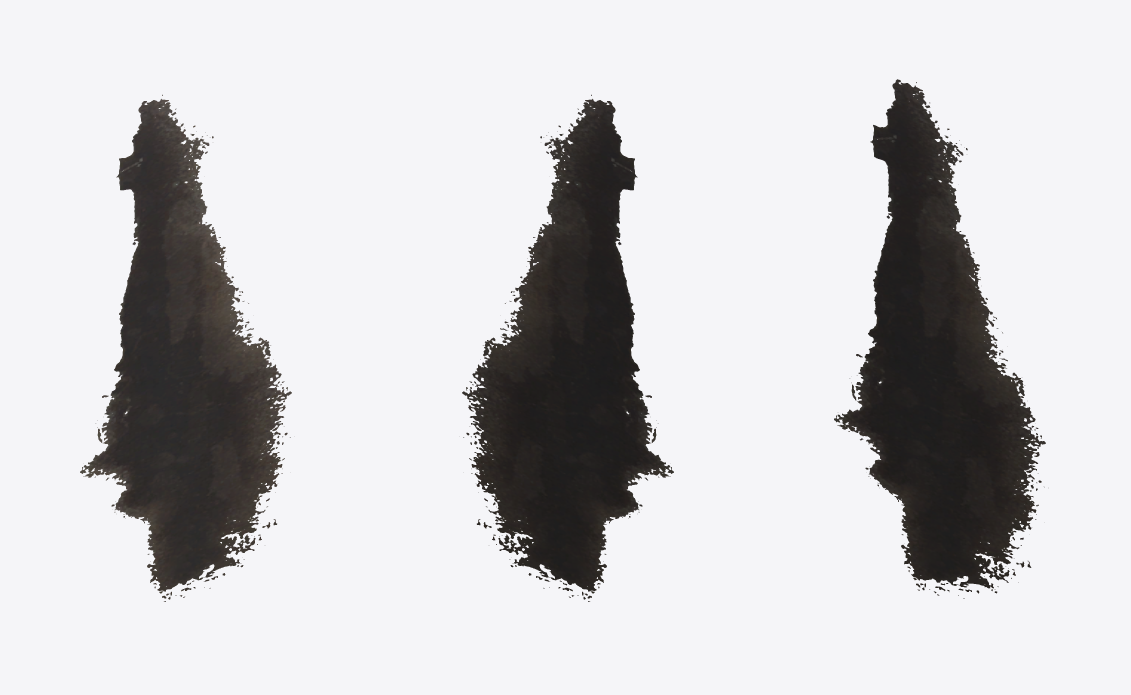
Rendered from decalGrunge06.fbx.
3 views of the same model, side by side, from view 1: azimuth 30°, elevation 25°; view 2: azimuth 150°, elevation 25°; view 3: azimuth 330°, elevation 25° (orthographic).
Visible parts, largest first — view 1: Plane05; view 2: Plane05; view 3: Plane05.
Part boxes in pixels (x1,y1,x2,y2): Plane05: (80, 94, 291, 601); Plane05: (462, 94, 673, 601); Plane05: (834, 79, 1045, 598).
Bounding box in the file's own units: 1.1 × 1.75 × 0.
